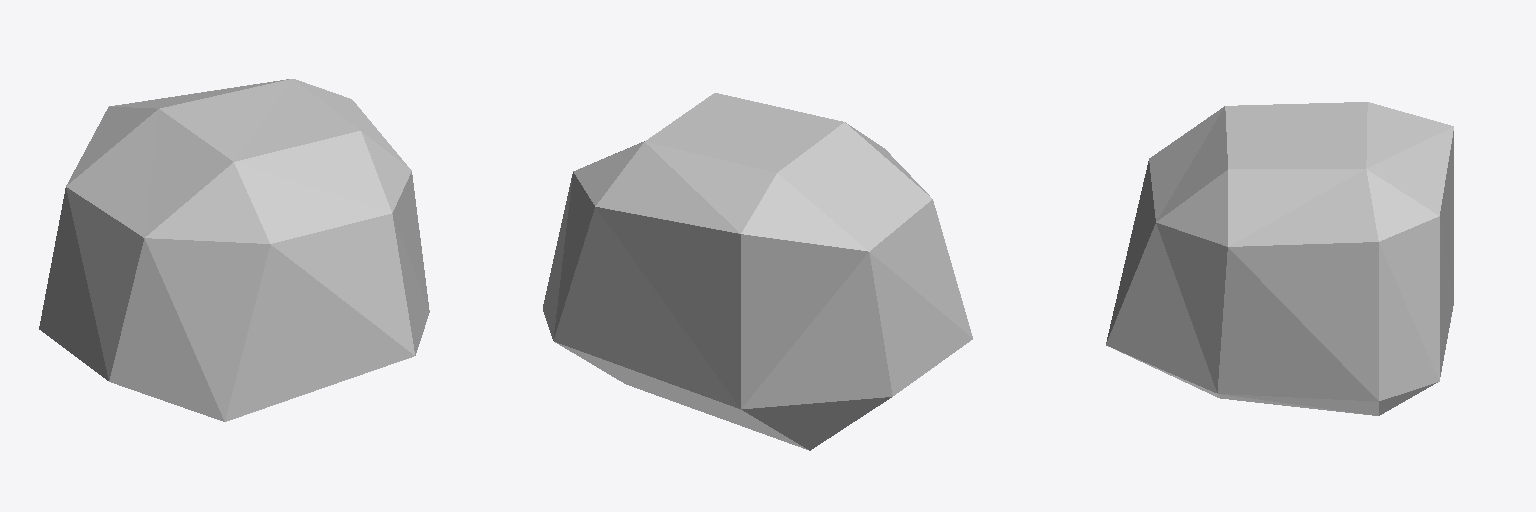
The model's file is lock.obj.
The picture shows the model from 3 angles: view 1: azimuth 30°, elevation 25°; view 2: azimuth 150°, elevation 25°; view 3: azimuth 270°, elevation 25°; orthographic projection.
Parts seen in each view (by area): view 1: Cube; view 2: Cube; view 3: Cube.
Part boxes in pixels (x1,y1,x2,y2): Cube: (39,79,429,421); Cube: (543,93,972,450); Cube: (1106,102,1453,415).
Size of the model in its own units: 2.62 by 1.82 by 2.24.